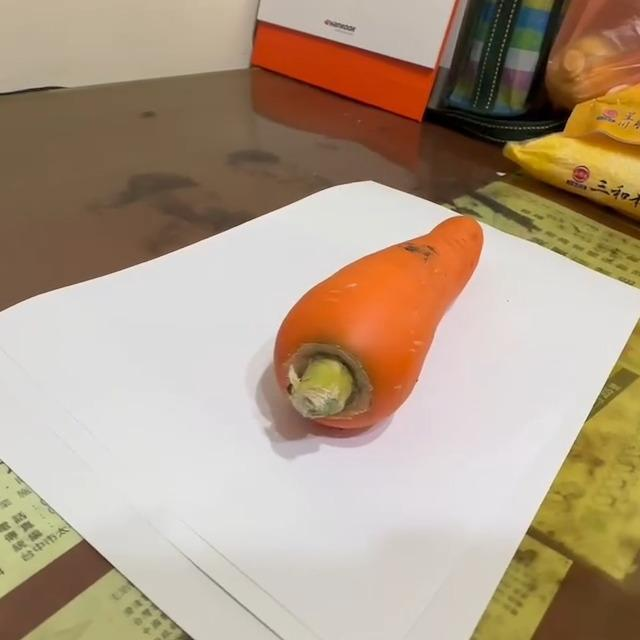carrot: (275, 217, 488, 432)
